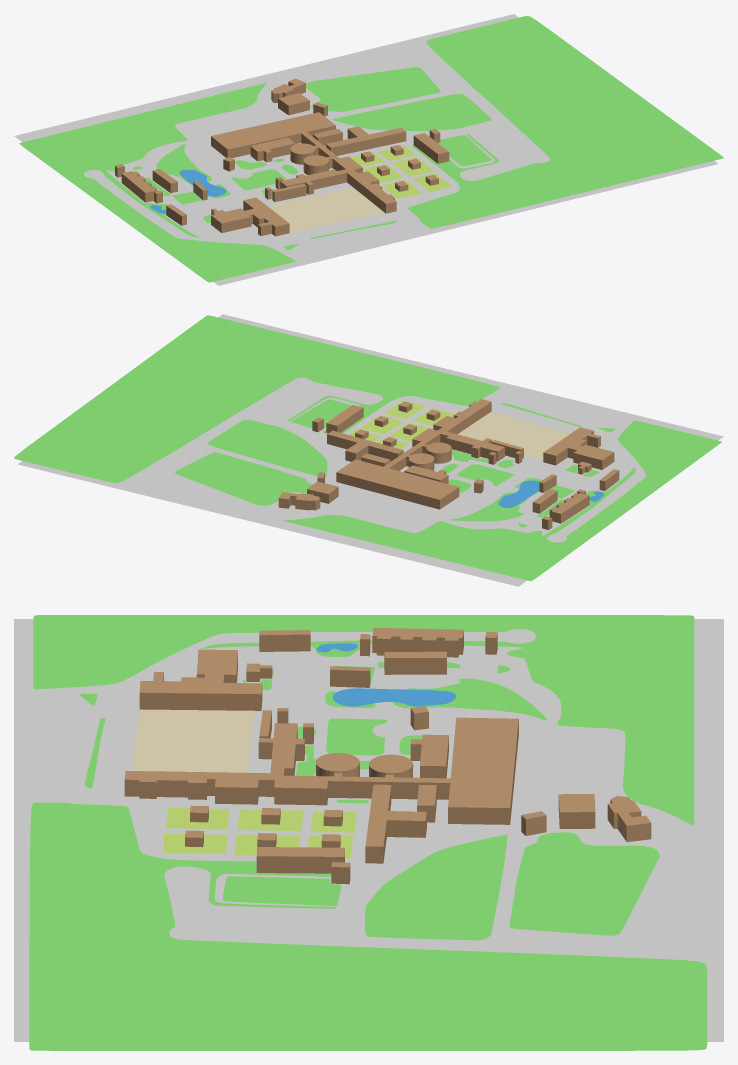
File: история.glb
The picture shows the model from 3 angles, top to bottom: view 1: azimuth 30°, elevation 25°; view 2: azimuth 150°, elevation 25°; view 3: azimuth 270°, elevation 25°; orthographic projection. The views are drawn at different scales.
Visible parts, largest first — view 1: BezierCircle, Plane, Cube, Plane.002, Plane.001, NurbsPath; view 2: BezierCircle, Plane, Cube, Plane.002, Plane.001, NurbsPath; view 3: BezierCircle, Plane, Cube, Plane.002, Plane.001, NurbsPath.
Part boxes in pixels (x1,y1,x2,y2): BezierCircle: [19, 15, 723, 282]; Plane: [14, 14, 718, 285]; Cube: [115, 78, 449, 236]; Plane.002: [268, 187, 384, 232]; Plane.001: [350, 145, 451, 198]; NurbsPath: [150, 169, 226, 213]; BezierCircle: [14, 315, 721, 581]; Plane: [18, 314, 723, 586]; Cube: [278, 399, 619, 529]; Plane.002: [458, 412, 569, 459]; Plane.001: [348, 400, 454, 449]; NurbsPath: [498, 480, 603, 507]; BezierCircle: [29, 615, 707, 1050]; Plane: [14, 619, 723, 1041]; Cube: [124, 627, 651, 884]; Plane.002: [131, 709, 254, 772]; Plane.001: [163, 807, 356, 858]; NurbsPath: [316, 643, 456, 706].
Size of the model in its own units: 52.63 by 1.09 by 36.24.
